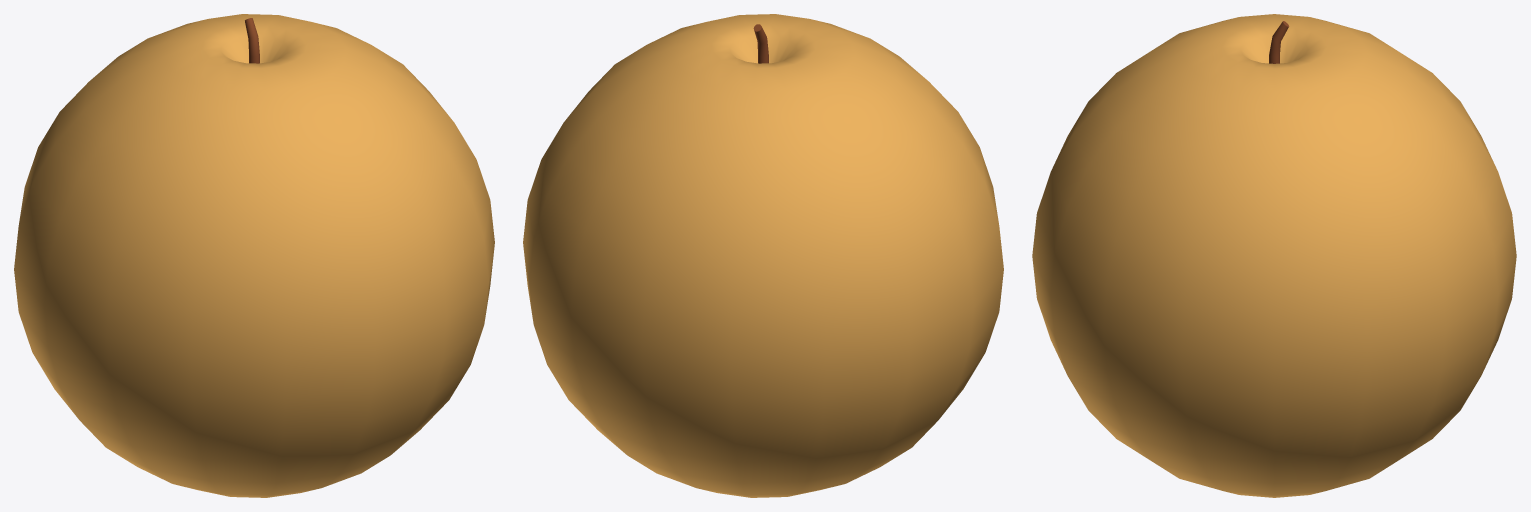
Rendered from Pear.fbx.
3 renders of one model, left to right at view 1: azimuth 30°, elevation 25°; view 2: azimuth 150°, elevation 25°; view 3: azimuth 270°, elevation 25°, orthographic.
Visible parts, largest first — view 1: Sphere; view 2: Sphere; view 3: Sphere.
Boxes of the visible parts, left/top/right/bottom form: Sphere: left=14, top=14, right=494, bottom=497; Sphere: left=523, top=14, right=1003, bottom=497; Sphere: left=1032, top=14, right=1516, bottom=497.
Size of the model in its own units: 200 by 203 by 200.
